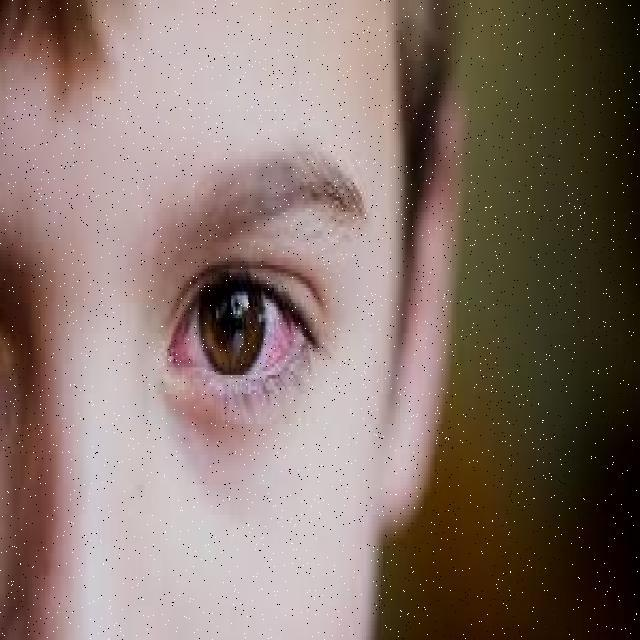Conjunctivitis: (162, 316, 304, 378)
